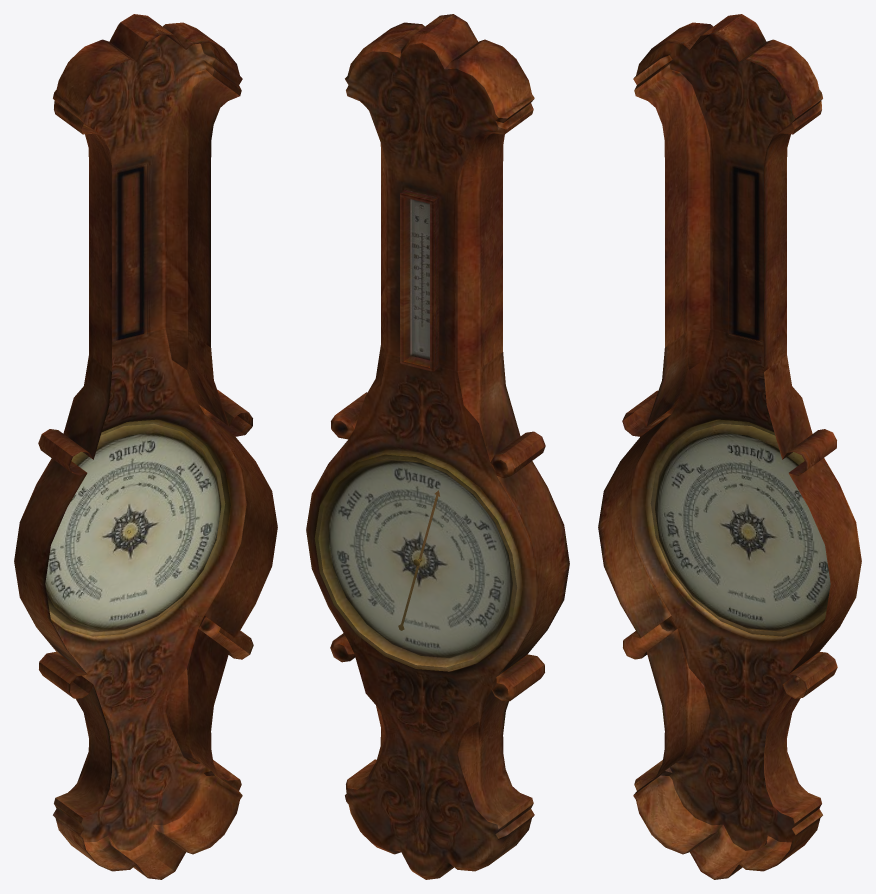
File: barometer-wall.glb
3 views of the same model, side by side, from view 1: azimuth 30°, elevation 25°; view 2: azimuth 150°, elevation 25°; view 3: azimuth 330°, elevation 25° (orthographic).
Parts seen in each view (by area): view 1: barometer-wall; view 2: barometer-wall; view 3: barometer-wall.
Part boxes in pixels (x1,y1,x2,y2): barometer-wall: [14, 14, 277, 879]; barometer-wall: [306, 14, 569, 879]; barometer-wall: [598, 14, 861, 879].
Bounding box in the file's own units: 0.3177 × 1.1 × 0.089.
Materials: 2 (1 with a texture image).
